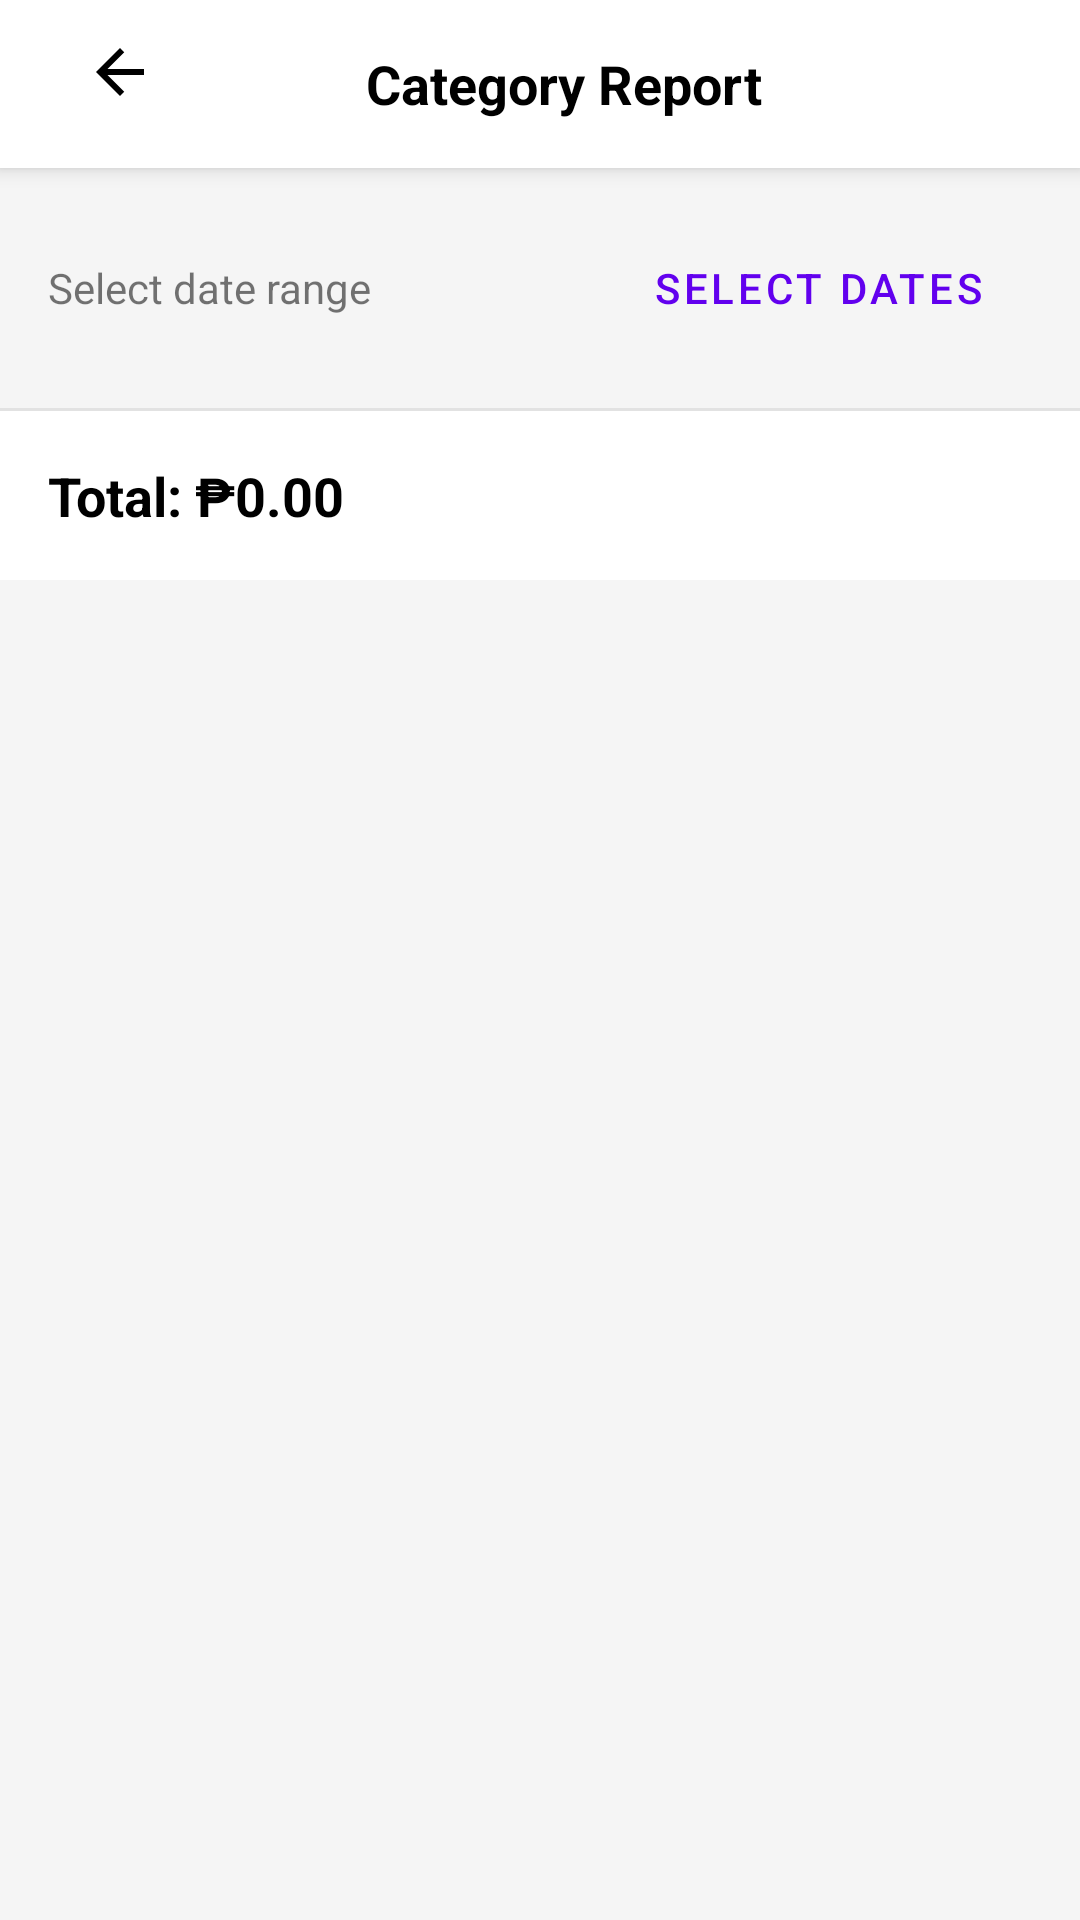

Icons on this 1080 x 1920 Android screen, each with the point to tap as [x,y]:
arrow back: [120,72]
